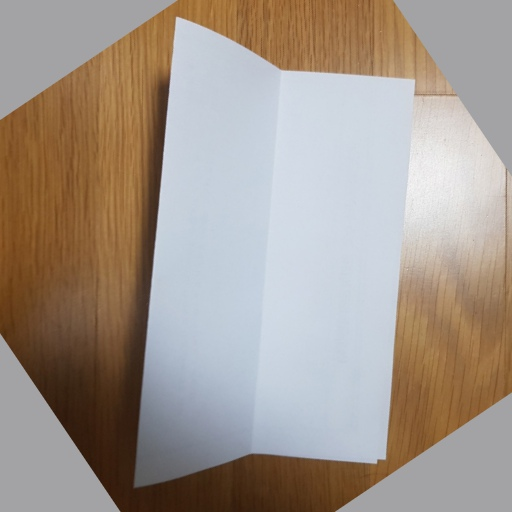Paper_3: (120, 3, 423, 505)
